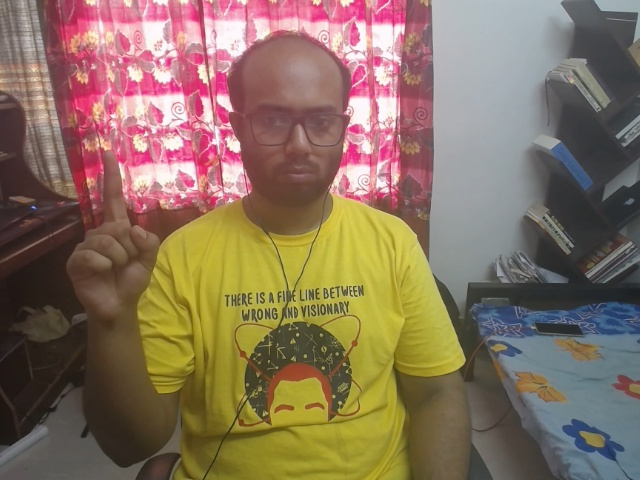one: (39, 140, 179, 329)
